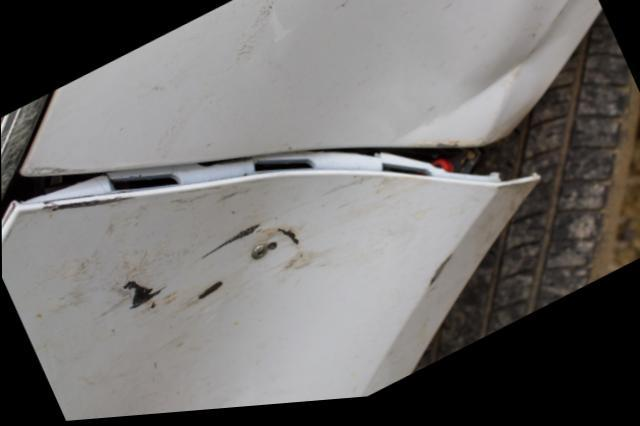dislocated part: (1, 150, 541, 422)
scratch: (27, 181, 431, 360)
